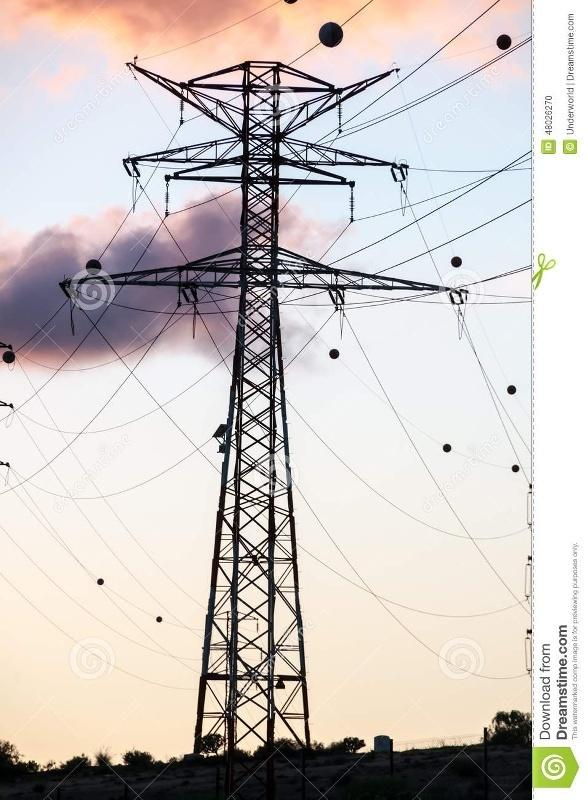power_tower: (95, 39, 420, 758)
